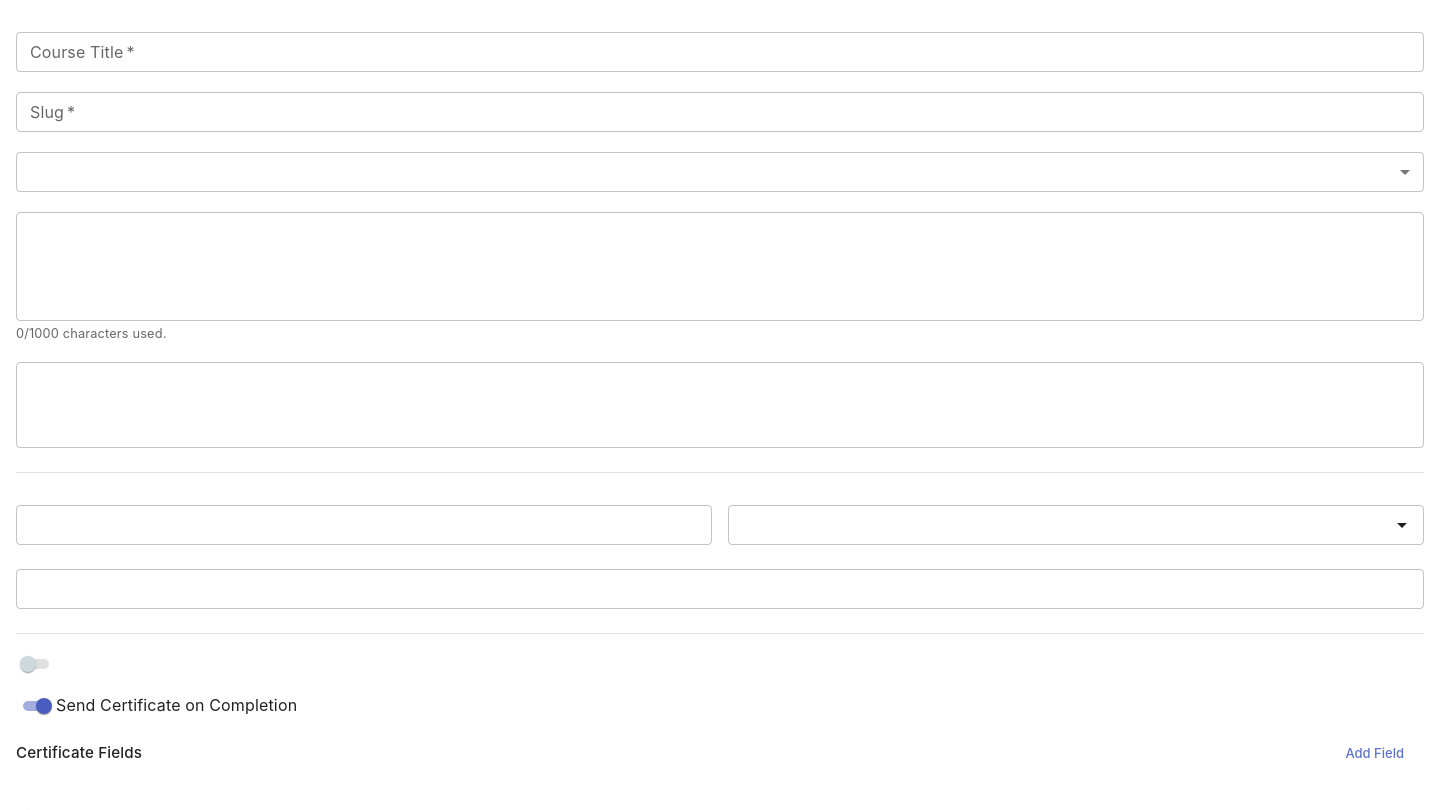
Test: CourseForm certificate fields › hides the certificate fields section while the certificate is switched off
The image size is (1440, 810).
Check: the heading "Certificate Fields" is shown, box [16,742,142,764]
Click the 2nd switch labelled "Send Certificate on Completion" at (157, 706), box [16,693,297,718]
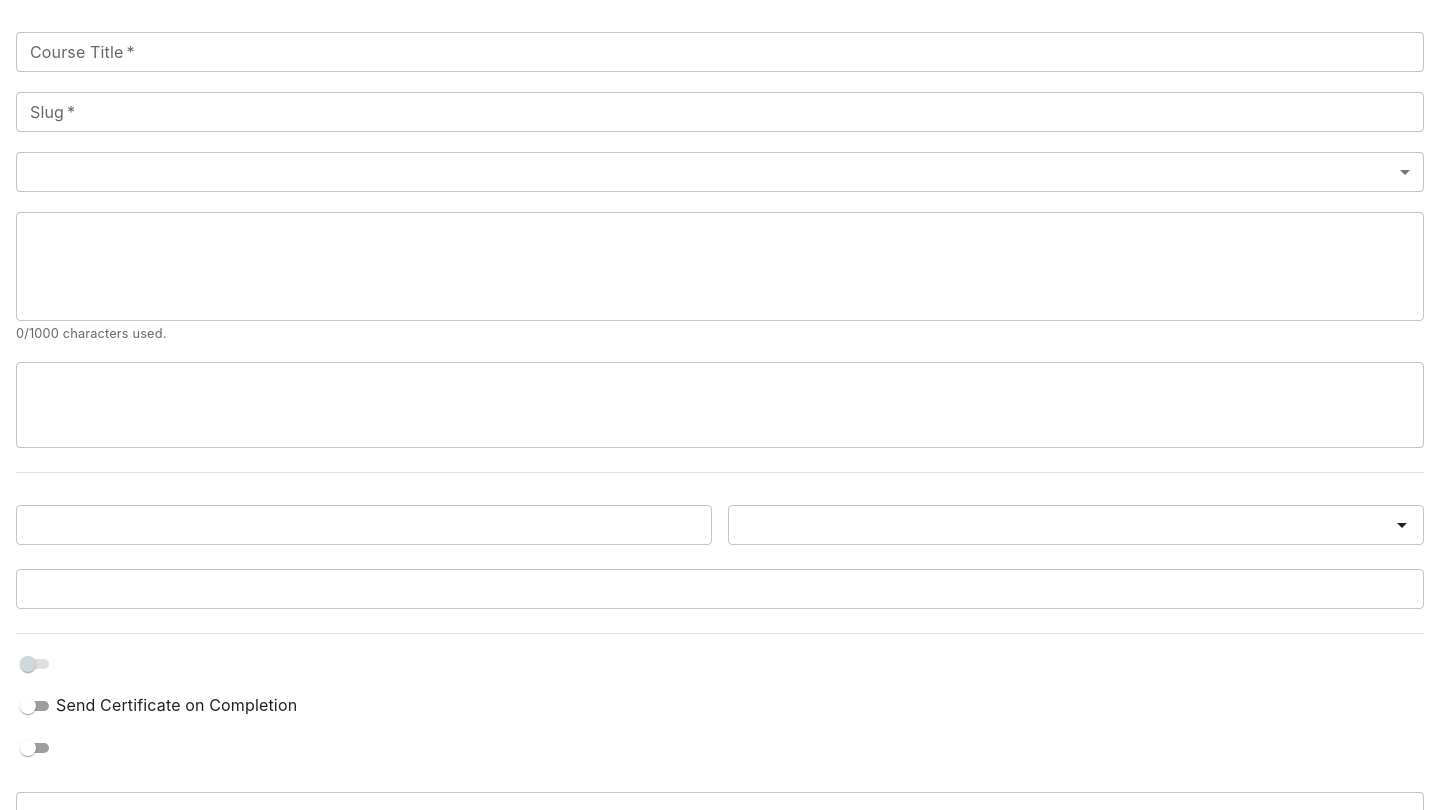
Check: the heading "Certificate Fields" is gone
